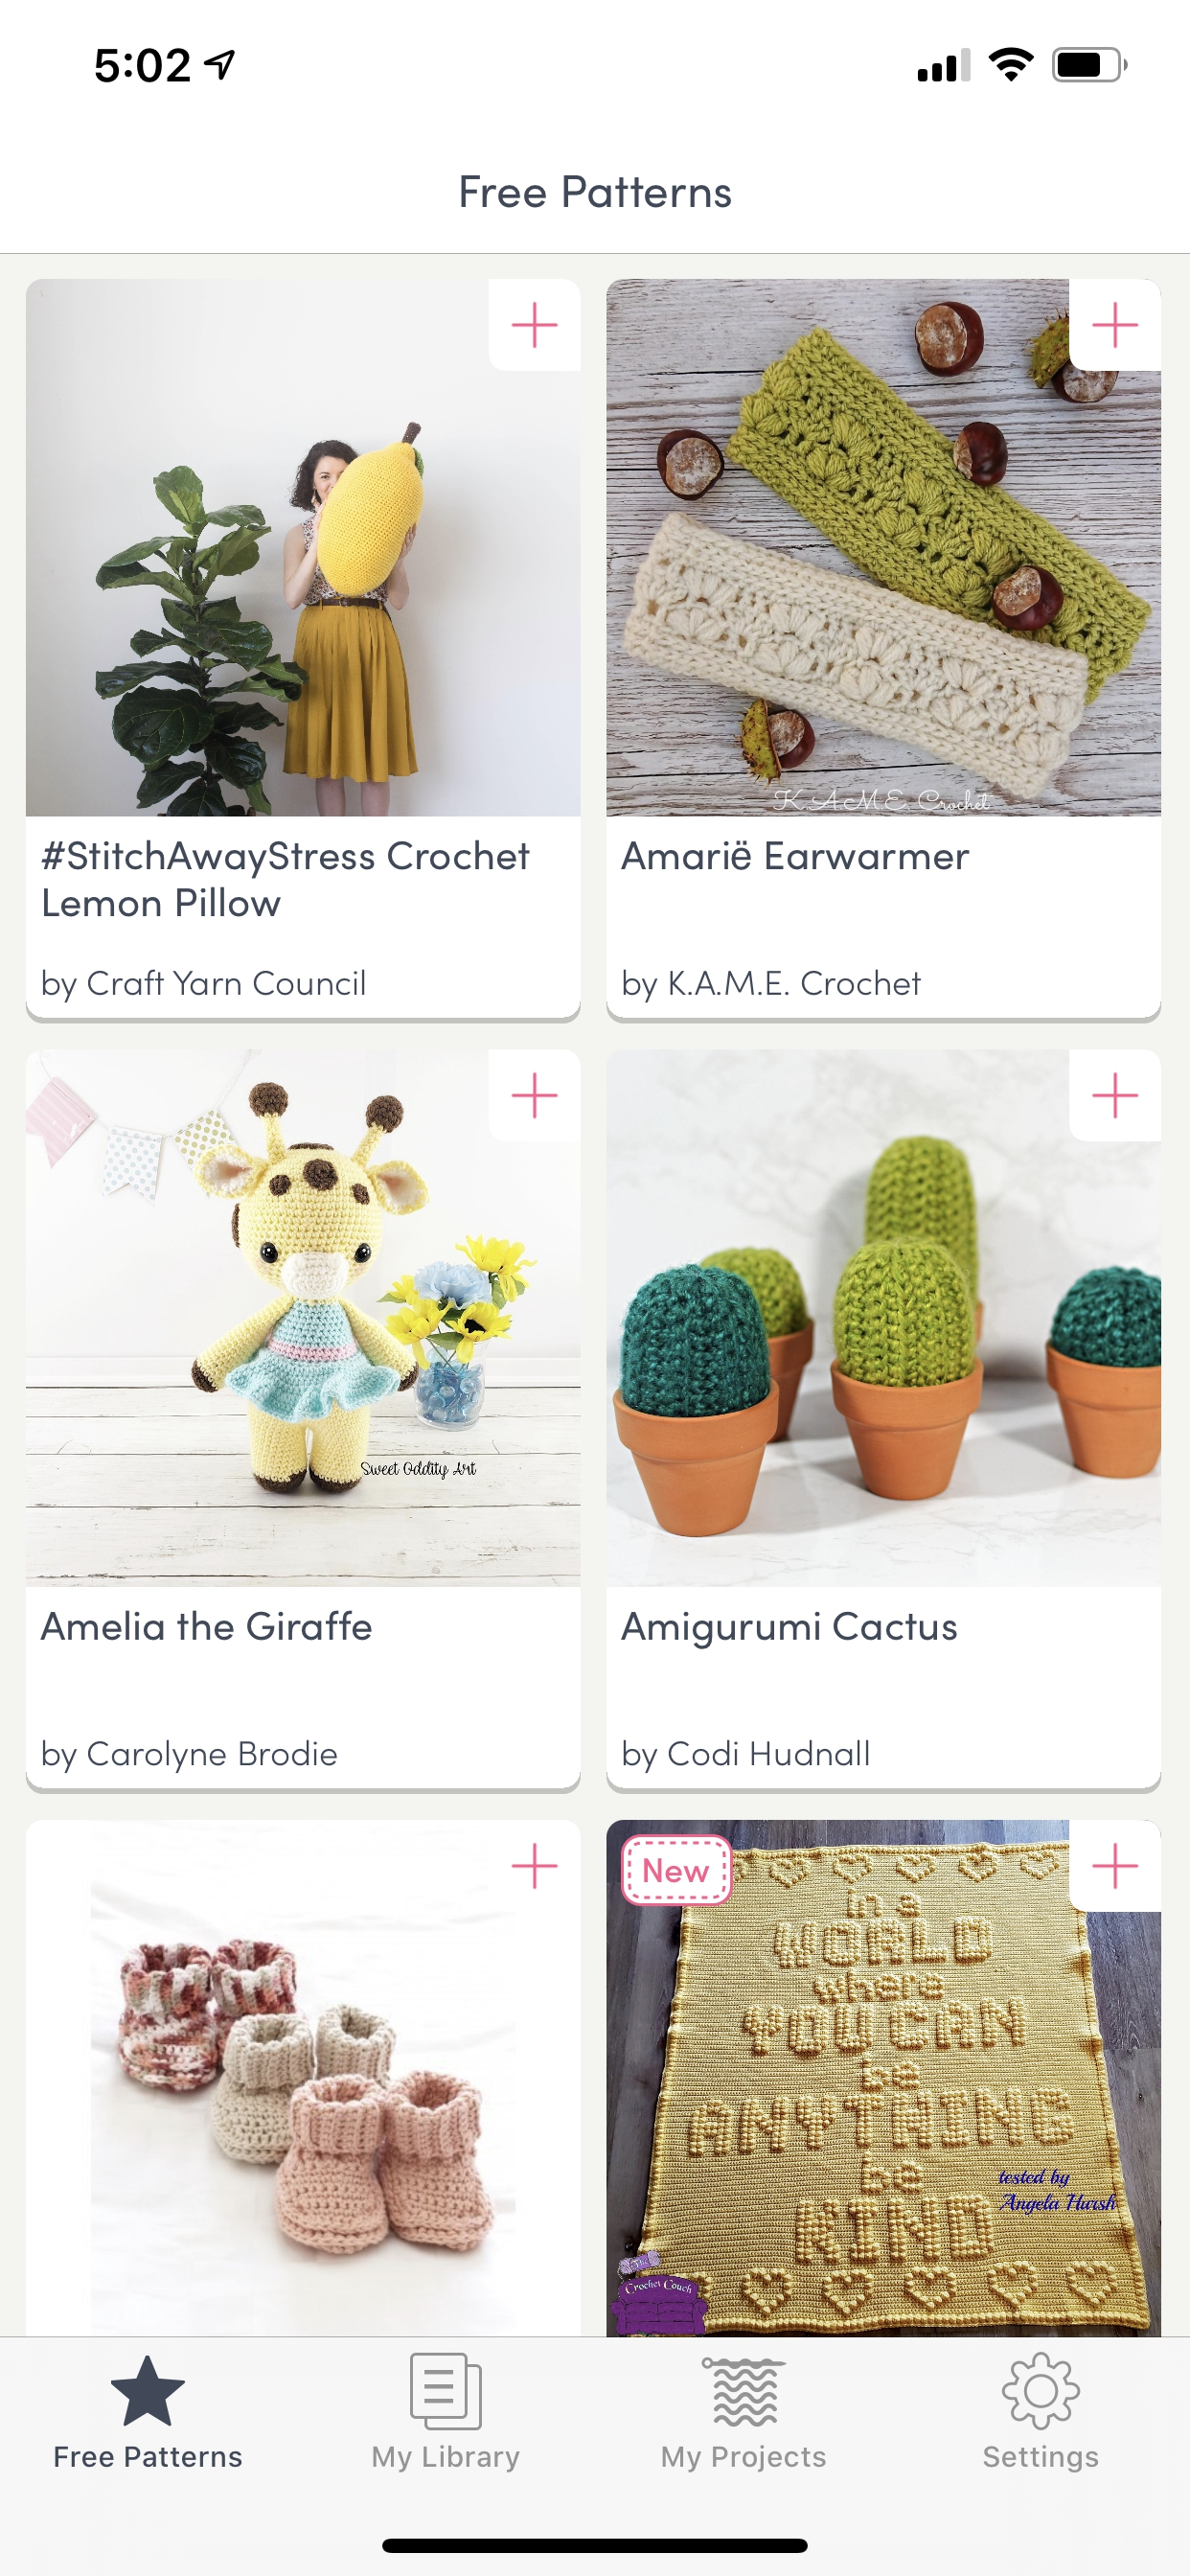Icon: (1070, 1819, 1162, 1912), (488, 1050, 580, 1142), (1068, 1050, 1160, 1142), (1070, 279, 1162, 371), (488, 279, 580, 371), (1001, 2351, 1082, 2430), (702, 2356, 787, 2428), (409, 2353, 482, 2430), (112, 2356, 187, 2426), (511, 1842, 559, 1889)
Image: (607, 1050, 1162, 1587), (607, 279, 1162, 816), (26, 1050, 580, 1587), (26, 279, 580, 816), (607, 1819, 1162, 2338), (26, 1819, 580, 2336)
Text: (43, 839, 529, 917), (621, 1612, 957, 1649), (43, 969, 365, 1004), (39, 1610, 371, 1641), (623, 969, 922, 1004), (621, 841, 970, 871), (43, 1740, 337, 1774), (623, 1738, 869, 1774), (460, 176, 731, 209), (662, 2445, 825, 2472), (373, 2445, 521, 2472), (54, 2446, 242, 2468), (983, 2445, 1098, 2472)
UpperTaskBar: (95, 48, 1128, 84)
